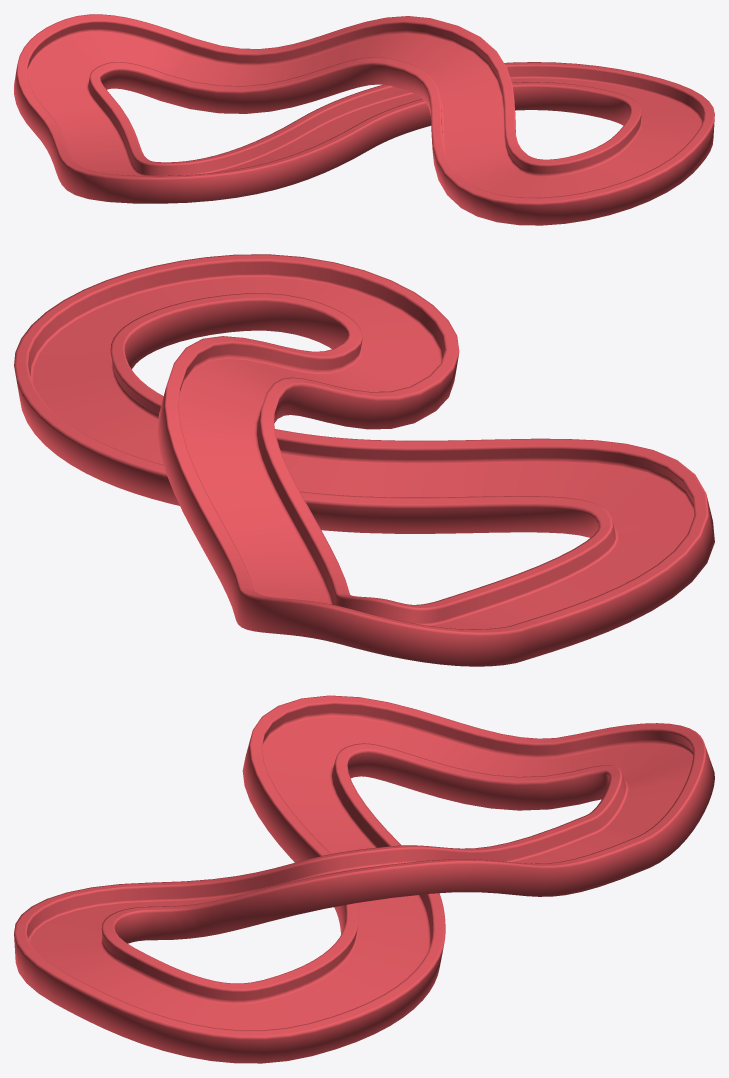
Rendered from pista-completa_01.gltf.
3 renders of one model, top to bottom at view 1: azimuth 30°, elevation 25°; view 2: azimuth 150°, elevation 25°; view 3: azimuth 270°, elevation 25°, orthographic. The views are drawn at different scales.
Parts seen in each view (by area): view 1: pista_completa; view 2: pista_completa; view 3: pista_completa.
Boxes of the visible parts, box(x1,y1,x2,y2) form: pista_completa: box(14, 14, 714, 225); pista_completa: box(14, 254, 714, 666); pista_completa: box(14, 695, 714, 1063).
Size of what is drawn, in the model's own units: 194 by 29.67 by 177.
